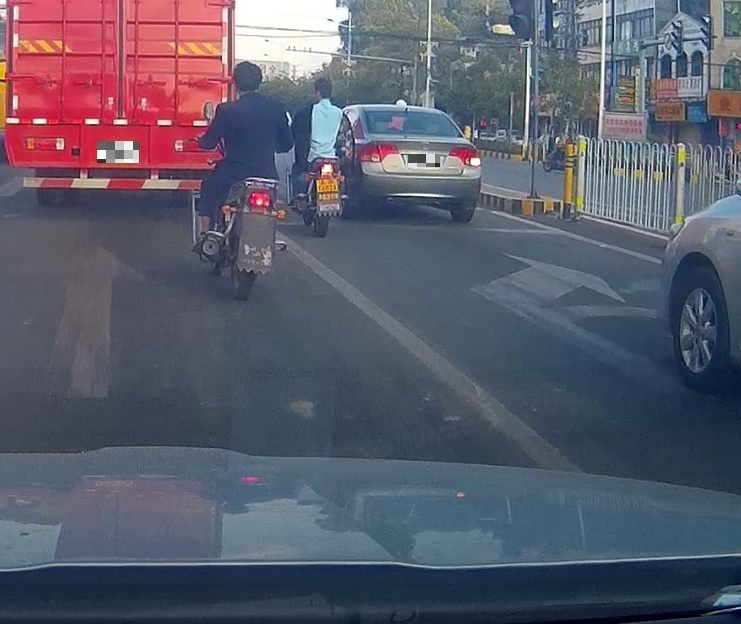L_light: (356, 143, 400, 164)
R_light: (448, 145, 482, 167)
T_light: (404, 110, 422, 116)
day-right: (352, 105, 482, 223)
plate_1: (97, 141, 139, 163)
plate_2: (408, 154, 440, 167)
